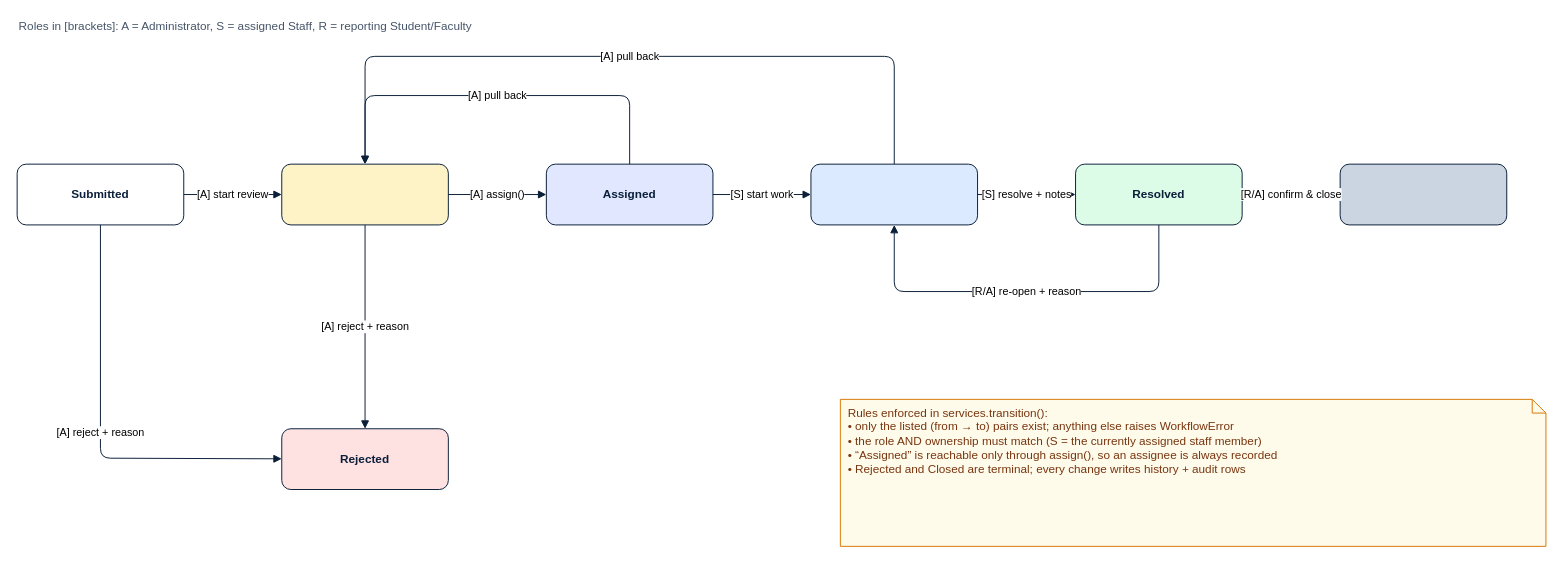
Image size: 1563x564. Some labels were removed from this diagram. Here are the shapes that lost their labels. From the top down, the box of each, then its label:
(281, 163, 448, 225): Under Review
(810, 163, 978, 225): In Progress
(1339, 163, 1507, 225): Closed
